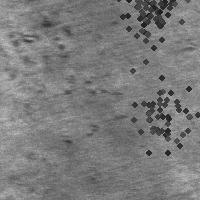rolled-in_scale: (111, 60, 200, 168), (64, 73, 123, 145), (4, 19, 72, 75), (109, 0, 193, 42), (108, 0, 176, 40)
